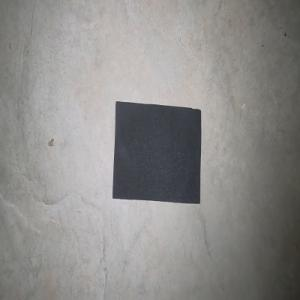PaintChip: (112, 101, 201, 203)
